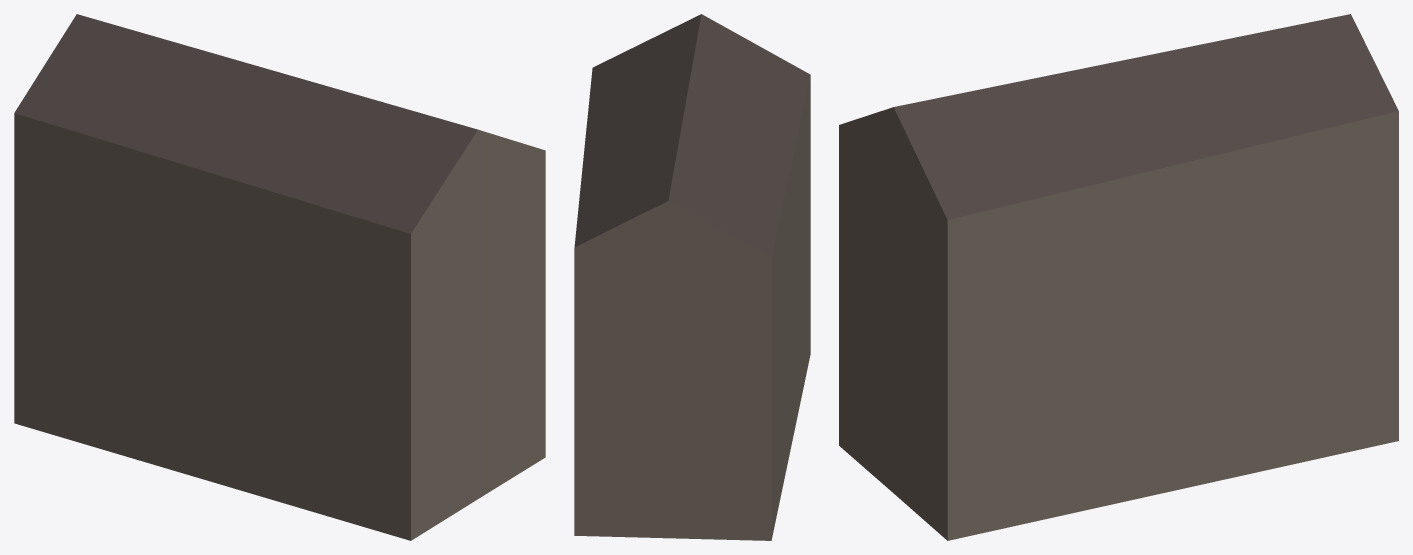
3 views of the same model, side by side, from view 1: azimuth 30°, elevation 25°; view 2: azimuth 150°, elevation 25°; view 3: azimuth 270°, elevation 25° (orthographic). The views are drawn at different scales.
Visible parts, largest first — view 1: HP-w1512911290; view 2: HP-w1512911290; view 3: HP-w1512911290.
Boxes of the visible parts, x1,y1,x2,y2 form: HP-w1512911290: (14,14,545,540); HP-w1512911290: (574,14,810,540); HP-w1512911290: (839,14,1398,540).
Bounding box in the file's own units: 7.44 × 7.22 × 9.49.
